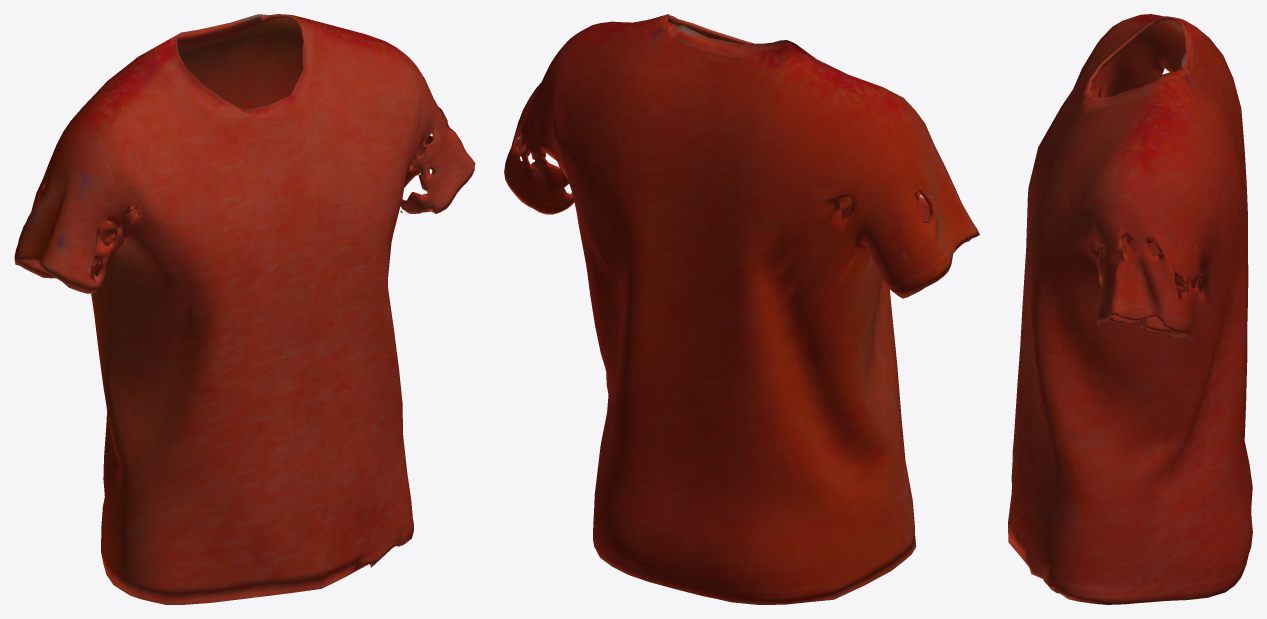
3 views of the same model, side by side, from view 1: azimuth 30°, elevation 25°; view 2: azimuth 150°, elevation 25°; view 3: azimuth 270°, elevation 25° (orthographic). The views are drawn at different scales.
Parts seen in each view (by area): view 1: file1; view 2: file1; view 3: file1.
Part boxes in pixels (bbox=[...]): file1: bbox=[14, 14, 475, 604]; file1: bbox=[504, 14, 979, 604]; file1: bbox=[1008, 14, 1252, 604].
Size of the model in its own units: 1.74 by 1.99 by 0.8637.
1 material, 1 textured.
